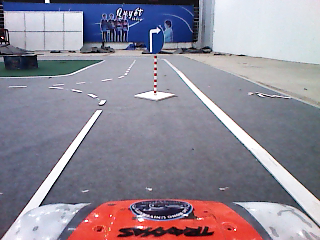turn: (144, 23, 165, 56)
